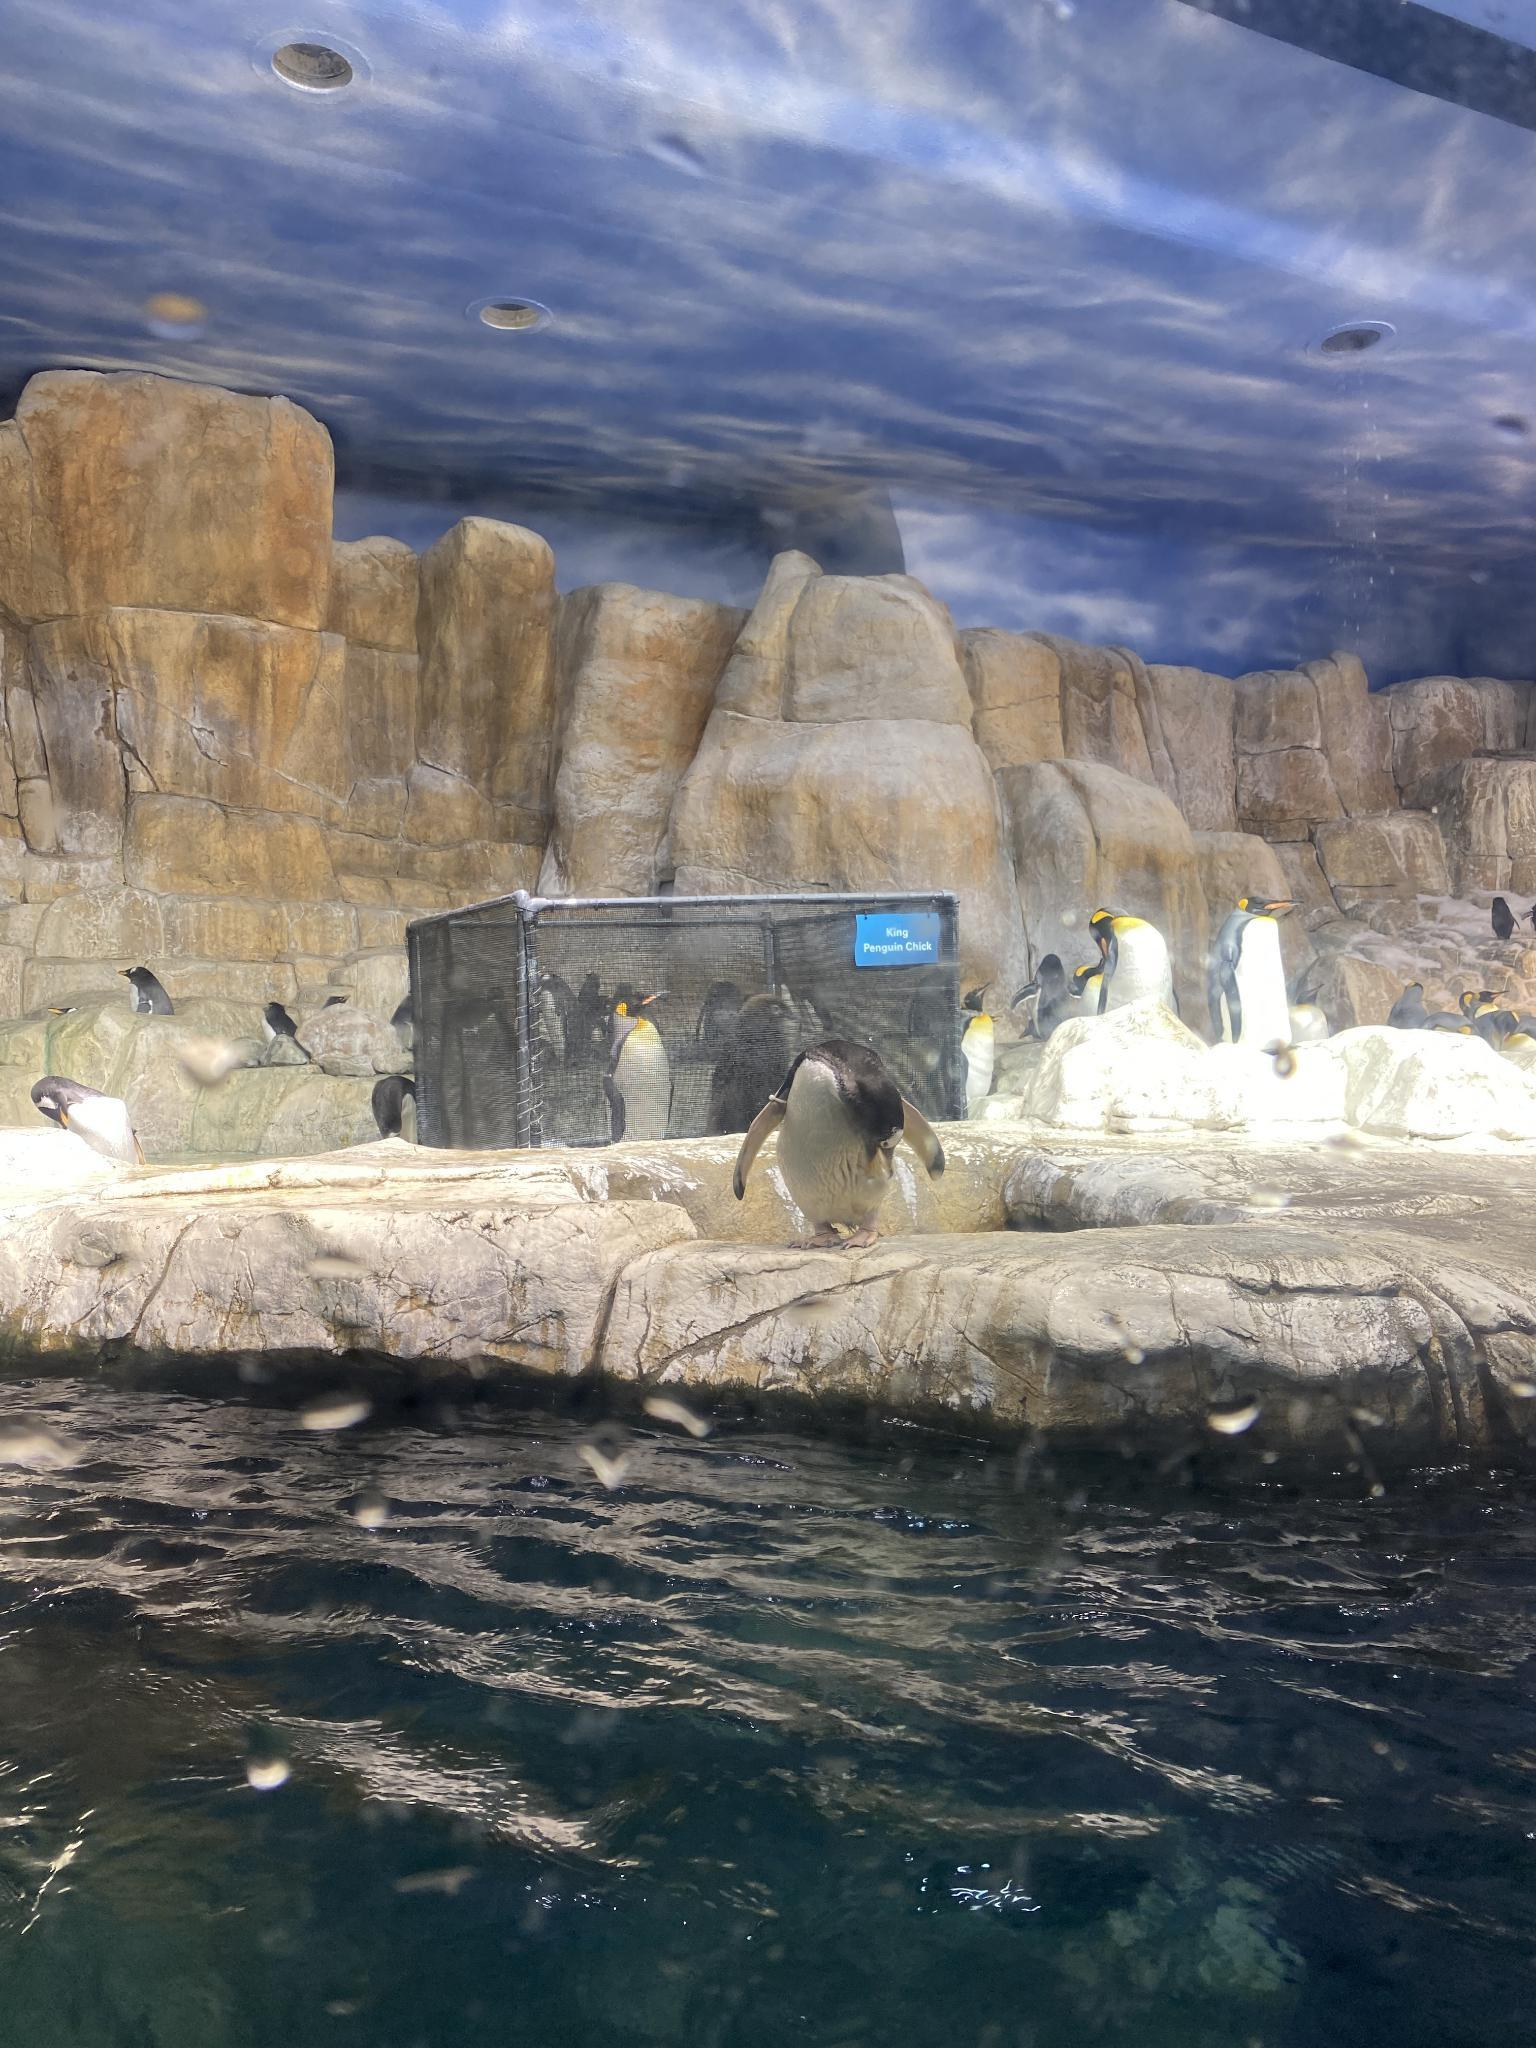penguin: (760, 1047, 937, 1247), (592, 982, 699, 1153), (1200, 882, 1299, 1063), (1091, 901, 1184, 1027), (29, 1069, 148, 1155), (952, 977, 1002, 1118), (1016, 942, 1079, 1048), (371, 1074, 432, 1150), (123, 956, 177, 1026), (1460, 992, 1518, 1055), (1392, 971, 1434, 1042), (1484, 893, 1521, 947), (271, 1000, 300, 1047)
